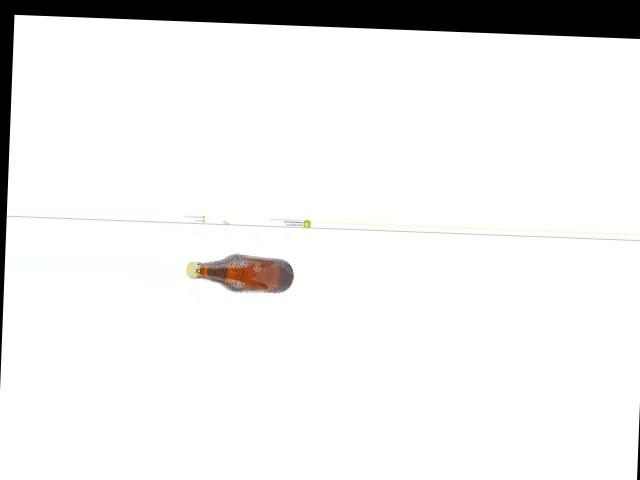beer: (185, 251, 293, 293)
